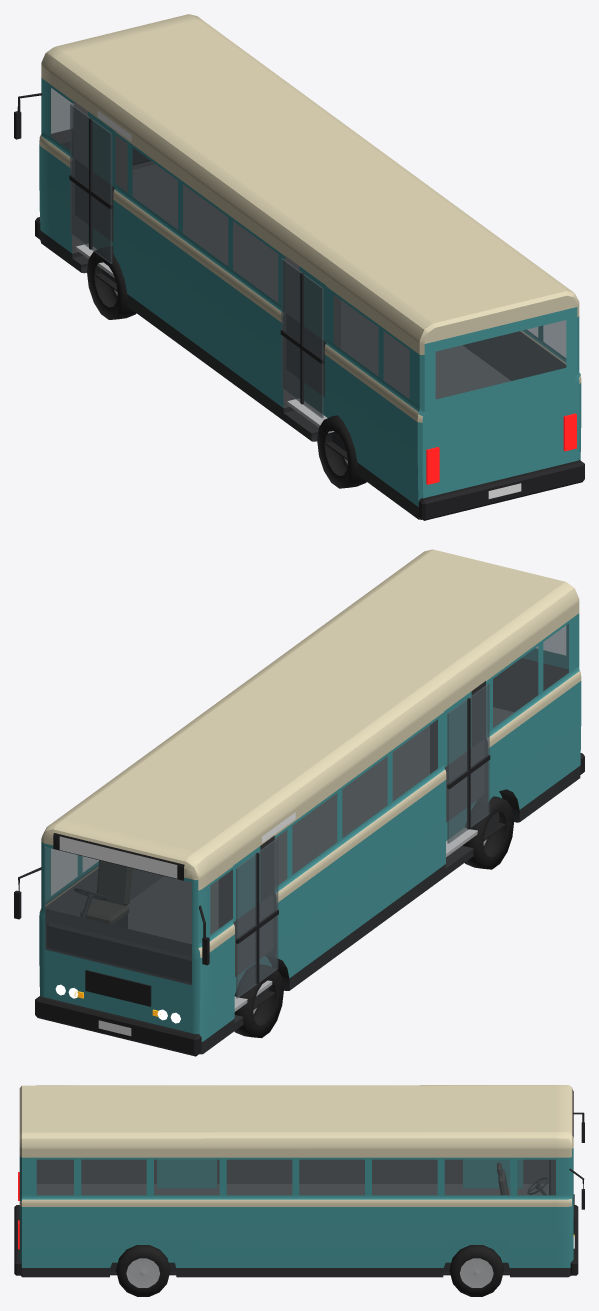
Rendered from bus_lod1.glb.
The picture shows the model from 3 angles, top to bottom: view 1: azimuth 30°, elevation 25°; view 2: azimuth 150°, elevation 25°; view 3: azimuth 270°, elevation 25°; orthographic projection. The views are drawn at different scales.
Parts seen in each view (by area): view 1: bus_body, wheel_fl, wheel_rl; view 2: bus_body, wheel_fl, wheel_rl; view 3: bus_body, wheel_fr, wheel_rr.
Part boxes in pixels (bbox=[...]): bus_body: bbox=[14, 14, 584, 520]; wheel_fl: bbox=[87, 246, 136, 319]; wheel_rl: bbox=[317, 415, 366, 488]; bus_body: bbox=[14, 549, 584, 1056]; wheel_fl: bbox=[234, 964, 283, 1038]; wheel_rl: bbox=[463, 796, 514, 869]; bus_body: bbox=[14, 1085, 584, 1277]; wheel_fr: bbox=[449, 1245, 503, 1296]; wheel_rr: bbox=[116, 1245, 170, 1296].
Bounding box in the file's own units: 2.96 × 3.25 × 10.45.
